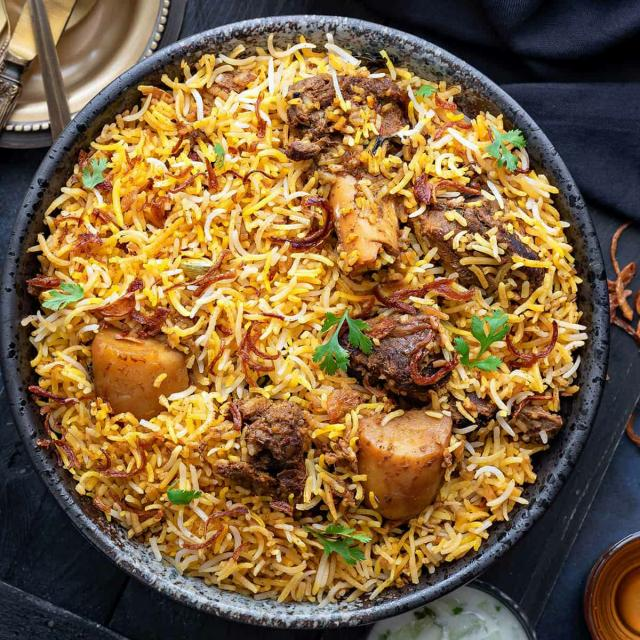Biryani: (21, 32, 588, 604)
